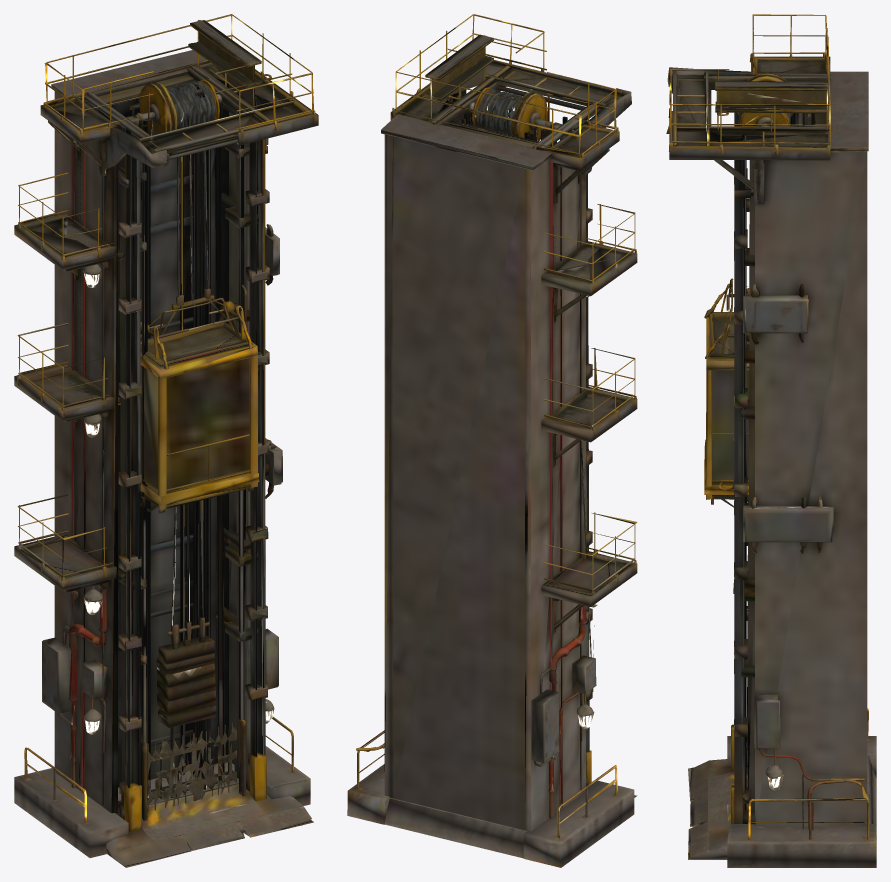
File: elevator.glb
3 views of the same model, side by side, from view 1: azimuth 30°, elevation 25°; view 2: azimuth 150°, elevation 25°; view 3: azimuth 270°, elevation 25° (orthographic). The views are drawn at different scales.
Parts seen in each view (by area): view 1: elevator; view 2: elevator; view 3: elevator.
Part boxes in pixels (left/top/right/bottom): elevator: left=14, top=14, right=318, bottom=867; elevator: left=347, top=14, right=637, bottom=867; elevator: left=666, top=14, right=876, bottom=867.
Size of the model in its own units: 5.2 by 16 by 4.05.
Materials: 1 (1 with a texture image).
